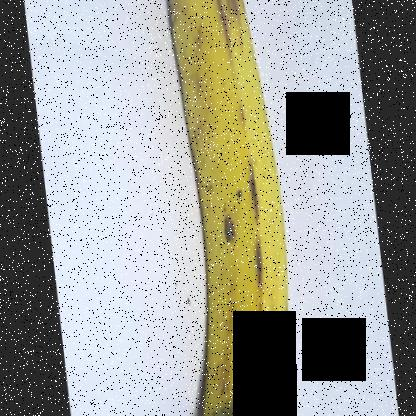ripe: (154, 0, 300, 415)
